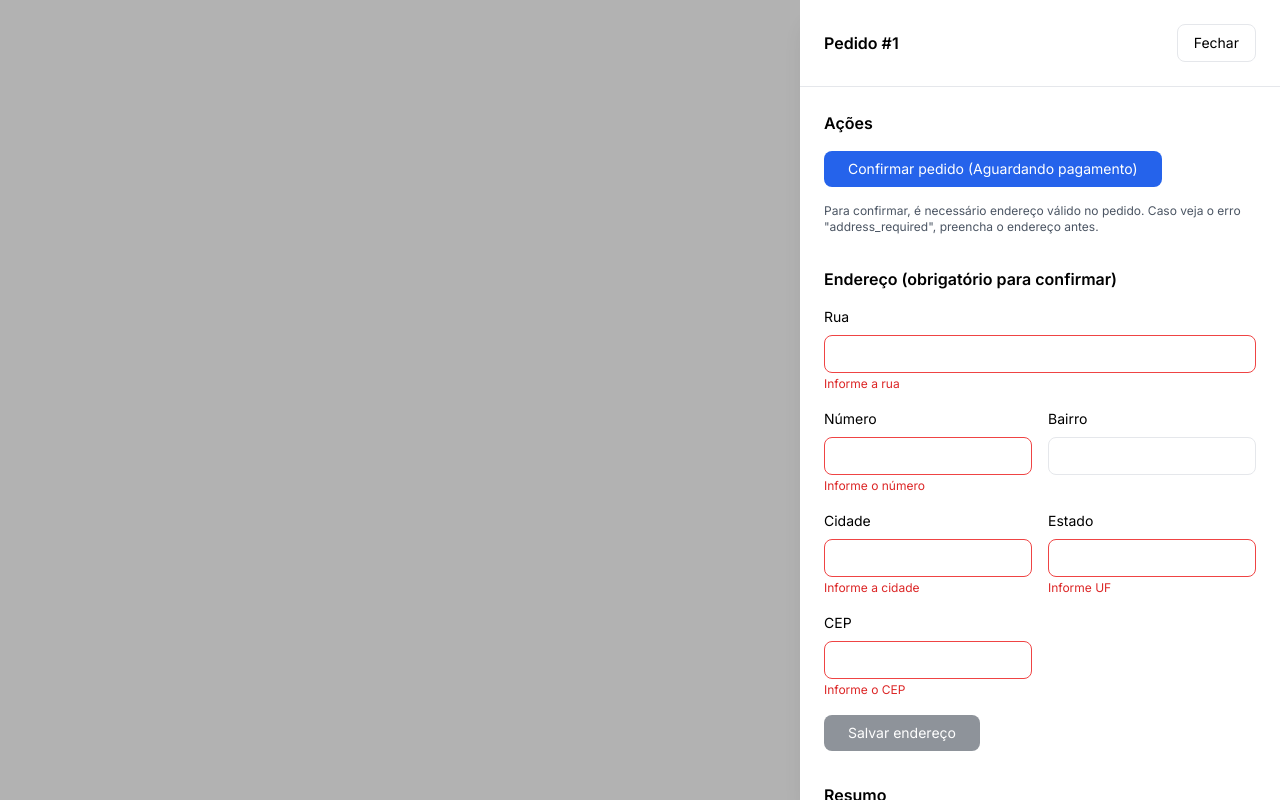
it: OrderDrawer › aplica máscara e validação de CEP, desabilitando botão quando inválido
Expected: the heading "Resumo" is shown, [824, 785, 886, 799]
cep parcial inválido
Type "123" into the field labelled "CEP Informe o CEP" at (928, 660), box [824, 641, 1032, 679]
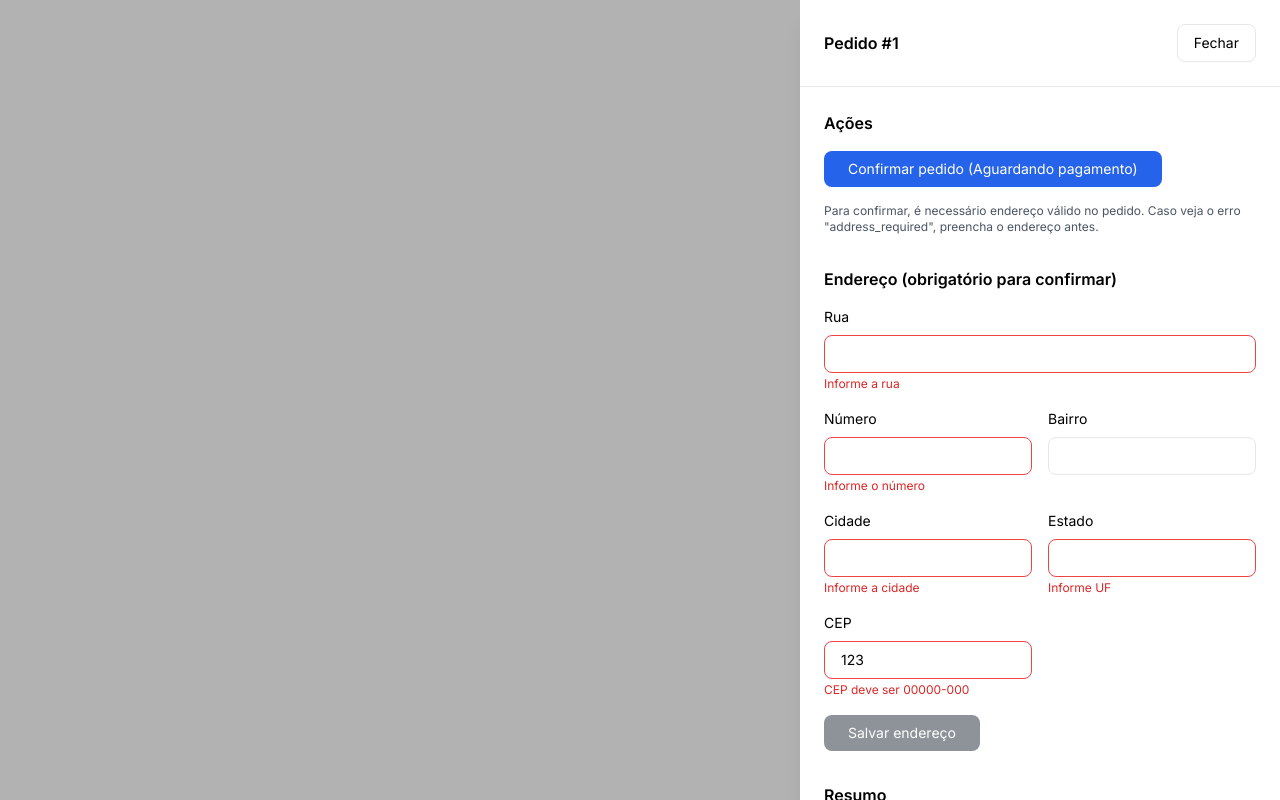
Now the text "CEP deve ser 00000-000" is shown, box [824, 682, 969, 697]
Replace the text in the field labelled "CEP CEP deve ser 00000-000" with "12345678" at (928, 660), box [824, 641, 1032, 679]
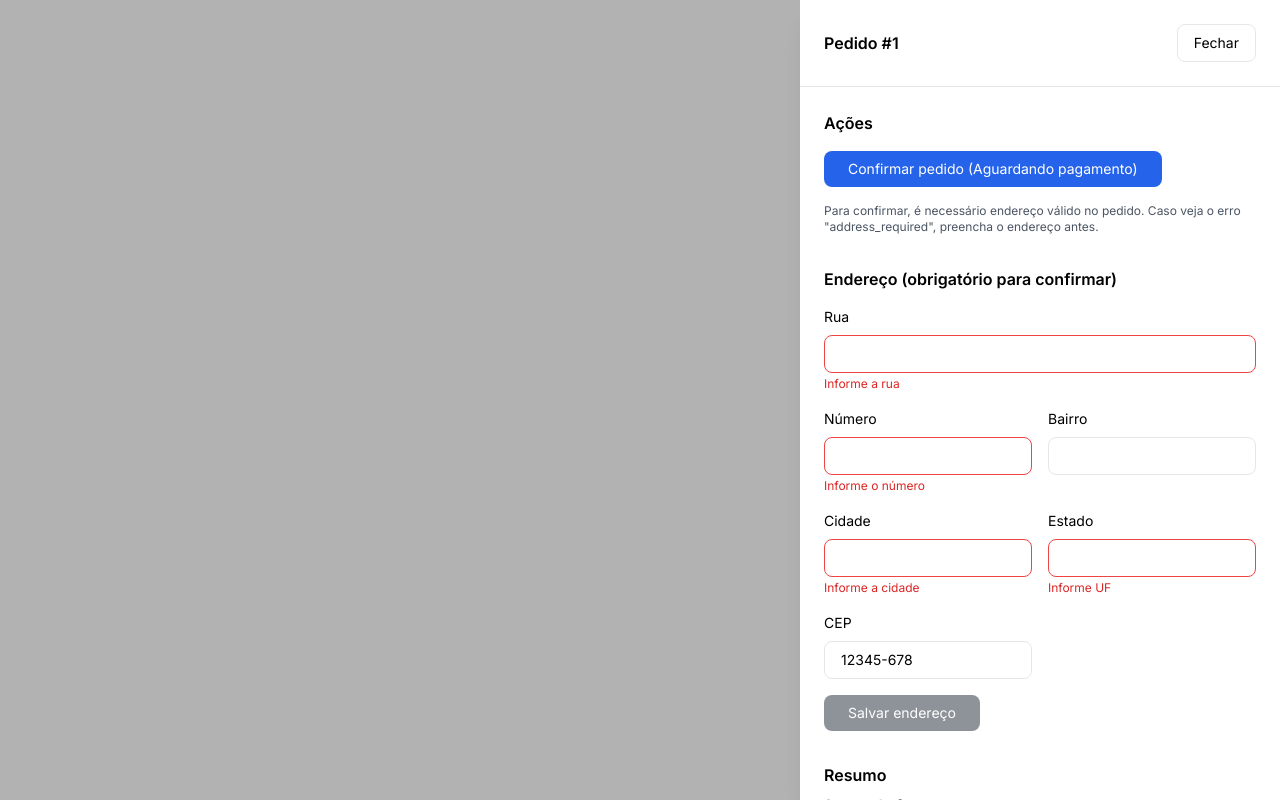
Expected: the button "Salvar endereço" is disabled, [824, 695, 980, 731]
Now the field labelled "CEP" holds "12345-678", box [824, 641, 1032, 679]
